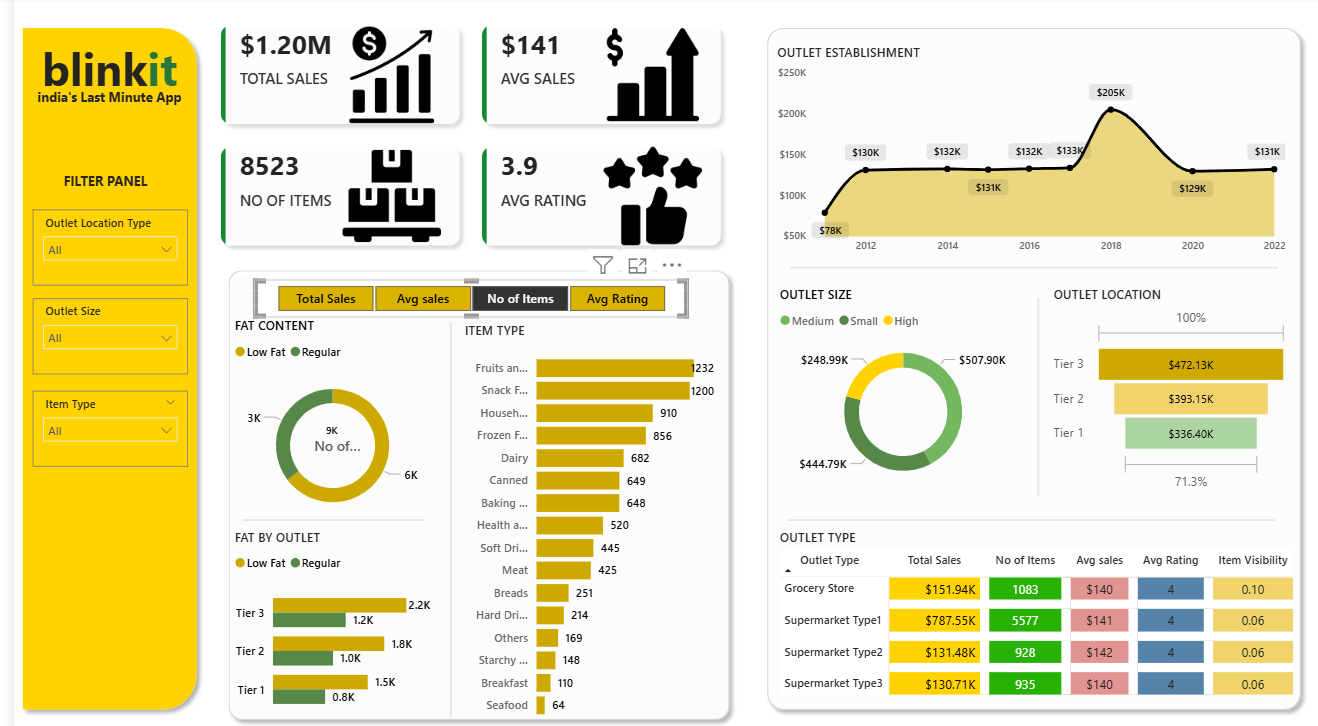

Layout of this report page (visuals, bound fields, positions):
{"tool":"powerbi","page":{"name":"Page 1","canvas":[1400,800],"ordinal":0},"visuals":[{"type":"shape","box":[0,24.1,205.1,749.3],"z":0},{"type":"textbox","box":[14.7,38.9,175.6,85.8],"z":1000},{"type":"textbox","box":[10.7,92.5,183.6,32.2],"z":2000},{"type":"cardVisual","fields":{"Data":["BlinkIT Grocery Data.Total Sales","BlinkIT Grocery Data.Avg sales","BlinkIT Grocery Data.No of Items","BlinkIT Grocery Data.Avg Rating"]},"box":[205.3,13.3,570.7,270.7],"z":3000},{"type":"shape","box":[221.2,284.2,555,500],"z":4000},{"type":"donutChart","title":"FAT CONTENT","fields":{"Y":["BlinkIT Grocery Data.Total Sales"],"Category":["BlinkIT Grocery Data.Item Fat Content"]},"box":[231.9,343.2,219.8,230.6],"z":5000},{"type":"slicer","fields":{"Values":["Metrics.Metrics"]},"box":[257.4,303,465.1,40.2],"z":6000},{"type":"cardVisual","fields":{"Data":["BlinkIT Grocery Data.Total Sales"]},"box":[286.9,446.4,108.6,56.3],"z":7000},{"type":"clusteredBarChart","title":"FAT BY OUTLET","fields":{"Y":["BlinkIT Grocery Data.Total Sales"],"Category":["BlinkIT Grocery Data.Outlet Location Type"],"Series":["BlinkIT Grocery Data.Item Fat Content"]},"box":[231.9,569.7,219.8,211.8],"z":8000},{"type":"shape","box":[245.3,528.2,194.4,65.7],"z":9000},{"type":"shape","box":[371.3,348.5,194.4,424.9],"z":10000},{"type":"barChart","title":"ITEM TYPE","fields":{"Y":["BlinkIT Grocery Data.Total Sales"],"Category":["BlinkIT Grocery Data.Item Type"]},"box":[478.6,348.5,277.5,435.7],"z":11000},{"type":"shape","box":[798.9,24.1,589.8,749.3],"z":12000},{"type":"lineChart","title":"OUTLET ESTABLISHMENT","fields":{"Y":["BlinkIT Grocery Data.Total Sales"],"Category":["BlinkIT Grocery Data.Outlet Establishment Year"]},"box":[813.7,49.6,555,234.6],"z":13000},{"type":"shape","box":[832.4,257.4,522.8,65.7],"z":14000},{"type":"donutChart","title":"OUTLET SIZE","fields":{"Y":["BlinkIT Grocery Data.Total Sales"],"Category":["BlinkIT Grocery Data.Outlet Size"]},"box":[816.4,309.7,274.8,225.2],"z":15000},{"type":"shape","box":[1001.3,323.1,194.4,213.1],"z":16000},{"type":"funnel","title":"OUTLET LOCATION","fields":{"Y":["BlinkIT Grocery Data.Total Sales"],"Category":["BlinkIT Grocery Data.Outlet Location Type"]},"box":[1109.9,309.7,261.4,225.2],"z":17000},{"type":"shape","box":[829.8,528.2,522.8,65.7],"z":18000},{"type":"pivotTable","title":"OUTLET TYPE","fields":{"Rows":["BlinkIT Grocery Data.Outlet Type"],"Values":["BlinkIT Grocery Data.Total Sales","BlinkIT Grocery Data.No of Items","BlinkIT Grocery Data.Avg sales","BlinkIT Grocery Data.Avg Rating","Avg(BlinkIT Grocery Data.Item Visibility)"]},"box":[816.4,569.7,564.3,193],"z":19000},{"type":"slicer","fields":{"Values":["BlinkIT Grocery Data.Outlet Location Type"]},"box":[20.1,227.9,166.2,81.8],"z":20000},{"type":"slicer","fields":{"Values":["BlinkIT Grocery Data.Outlet Size"]},"box":[20.1,323.1,166.2,81.8],"z":21000},{"type":"slicer","fields":{"Values":["BlinkIT Grocery Data.Item Type"]},"box":[20.1,422.3,166.2,81.8],"z":22000},{"type":"textbox","box":[48.3,182.3,109.9,36.2],"z":23000}]}

Visuals, with their boxes on the page's 1400x800 design canvas (x1, y1, x2, y2). These are canvas units, not pixel positions in the 1318x726 screenshot, which may show the page scaled, cropped or inside an application window:
shape: BBox(0, 24, 205, 773)
textbox: BBox(15, 39, 190, 125)
textbox: BBox(11, 92, 194, 125)
cardVisual - BlinkIT Grocery Data.Total Sales x BlinkIT Grocery Data.Avg sales: BBox(205, 13, 776, 284)
shape: BBox(221, 284, 776, 784)
"FAT CONTENT" donutChart: BBox(232, 343, 452, 574)
slicer - Metrics.Metrics: BBox(257, 303, 722, 343)
cardVisual - BlinkIT Grocery Data.Total Sales: BBox(287, 446, 396, 503)
"FAT BY OUTLET" clusteredBarChart: BBox(232, 570, 452, 782)
shape: BBox(245, 528, 440, 594)
shape: BBox(371, 348, 566, 773)
"ITEM TYPE" barChart: BBox(479, 348, 756, 784)
shape: BBox(799, 24, 1389, 773)
"OUTLET ESTABLISHMENT" lineChart: BBox(814, 50, 1369, 284)
shape: BBox(832, 257, 1355, 323)
"OUTLET SIZE" donutChart: BBox(816, 310, 1091, 535)
shape: BBox(1001, 323, 1196, 536)
"OUTLET LOCATION" funnel: BBox(1110, 310, 1371, 535)
shape: BBox(830, 528, 1353, 594)
"OUTLET TYPE" pivotTable: BBox(816, 570, 1381, 763)
slicer - BlinkIT Grocery Data.Outlet Location Type: BBox(20, 228, 186, 310)
slicer - BlinkIT Grocery Data.Outlet Size: BBox(20, 323, 186, 405)
slicer - BlinkIT Grocery Data.Item Type: BBox(20, 422, 186, 504)
textbox: BBox(48, 182, 158, 218)
